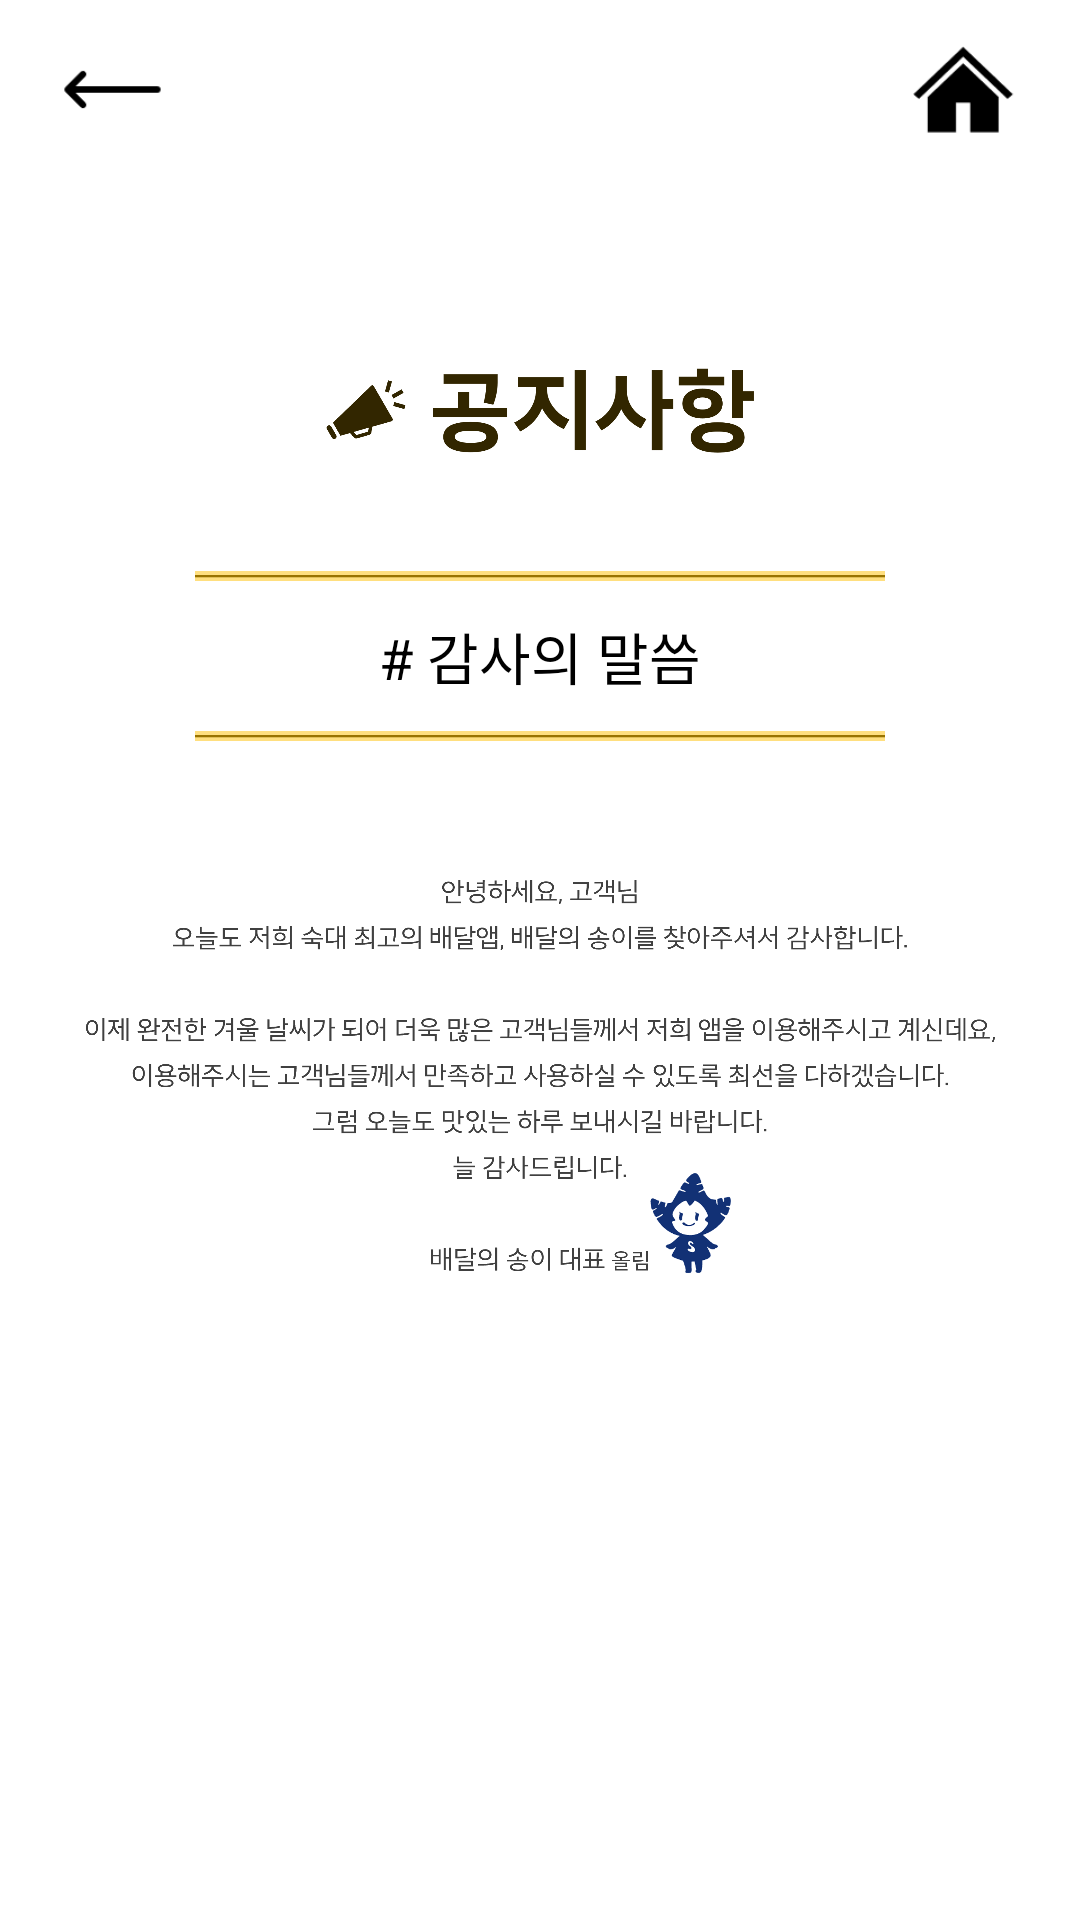

Named icons in this screenshot (1080*1920) and their bounding boxes, (x1, y1, x2, y2):
back: (64, 70, 161, 109)
home: (913, 47, 1013, 133)
